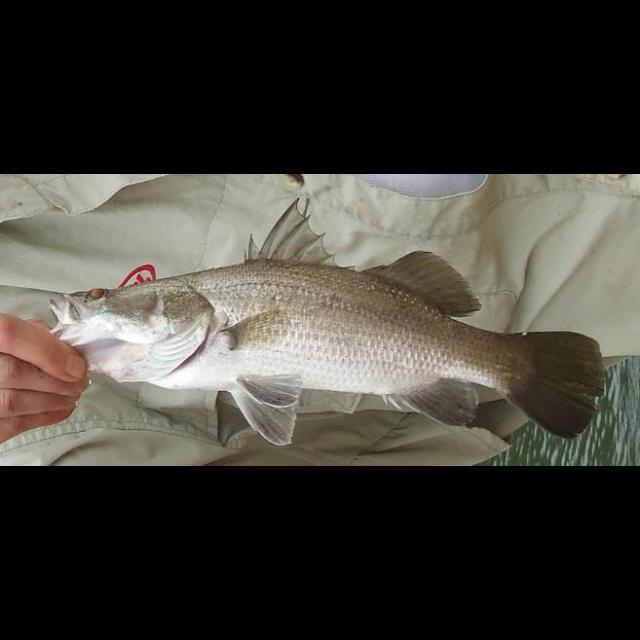Seabass: (47, 197, 608, 447)
